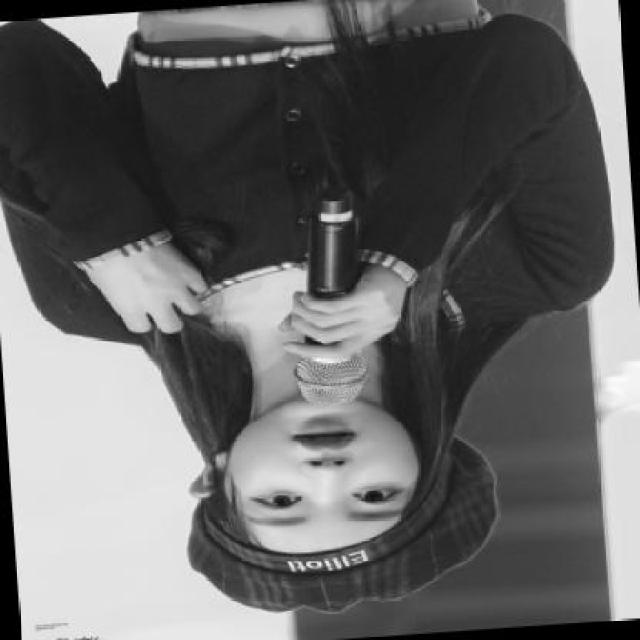earphone: (190, 429, 239, 516)
